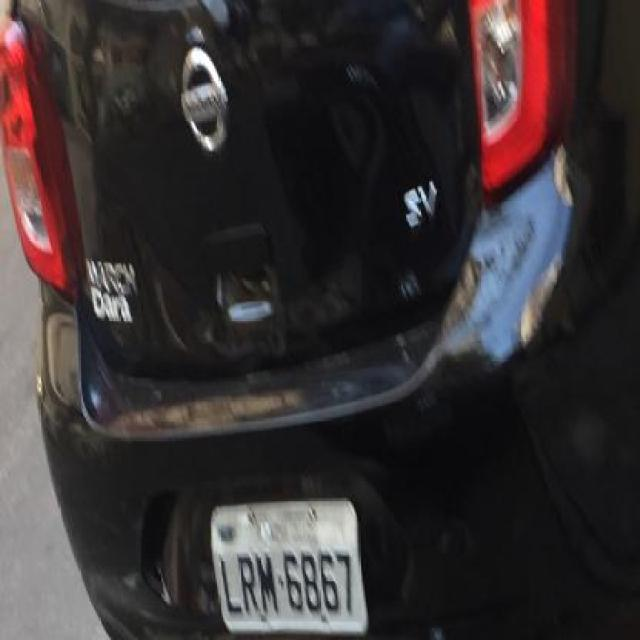old_plate: (202, 490, 374, 640)
